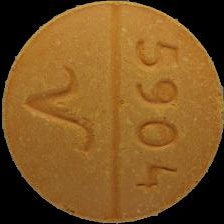55289-176: (0, 0, 224, 224)
